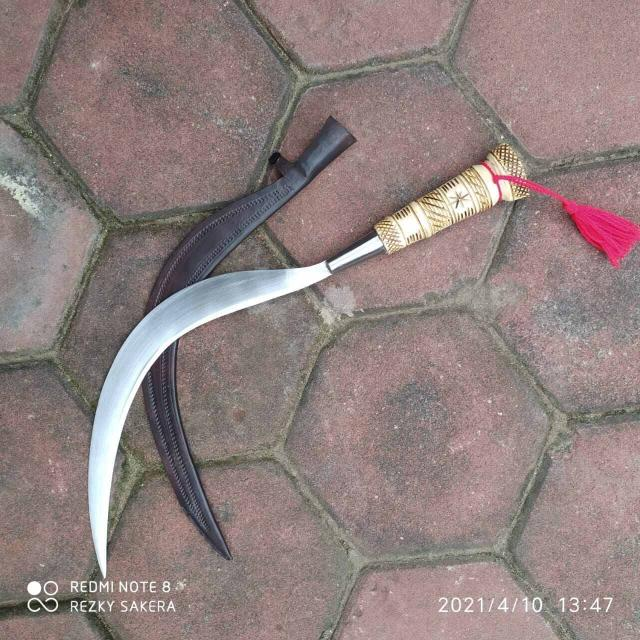Celurit: (93, 148, 538, 579)
